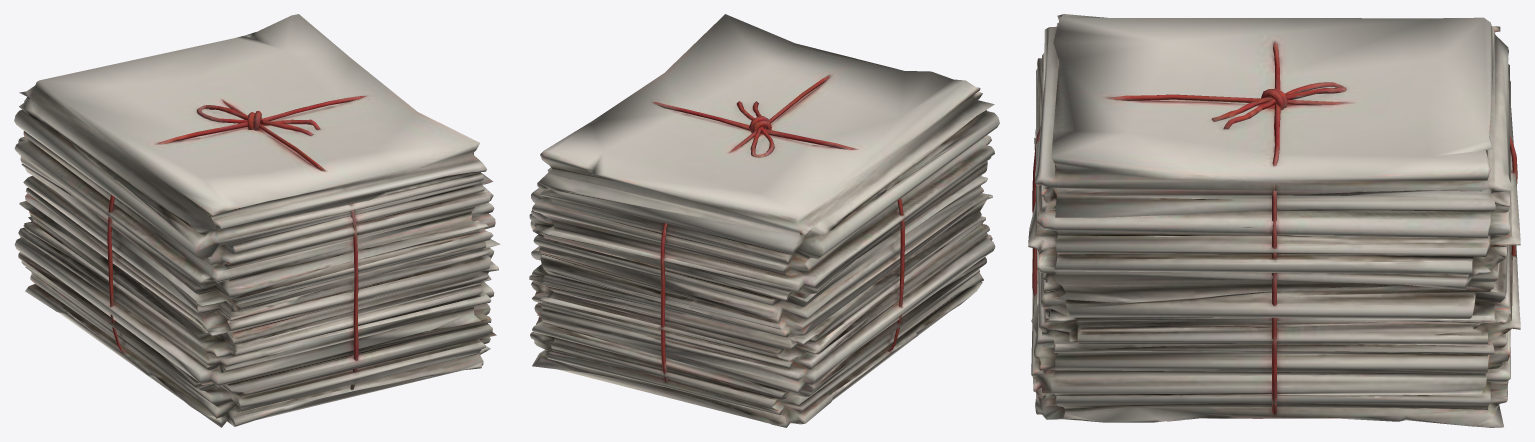
The model's file is newspaper.glb.
3 views of the same model, side by side, from view 1: azimuth 30°, elevation 25°; view 2: azimuth 150°, elevation 25°; view 3: azimuth 270°, elevation 25° (orthographic). The views are drawn at different scales.
Visible parts, largest first — view 1: tripo_node_f75897b1-30f5-45c7-ad14-246512b84eb9; view 2: tripo_node_f75897b1-30f5-45c7-ad14-246512b84eb9; view 3: tripo_node_f75897b1-30f5-45c7-ad14-246512b84eb9.
Boxes of the visible parts, x1,y1,x2,y2 form: tripo_node_f75897b1-30f5-45c7-ad14-246512b84eb9: (14,14,500,427); tripo_node_f75897b1-30f5-45c7-ad14-246512b84eb9: (529,14,999,427); tripo_node_f75897b1-30f5-45c7-ad14-246512b84eb9: (1028,14,1520,427).
Size of the model in its own units: 0.8574 by 0.6074 by 0.998.
1 material, 1 textured.
